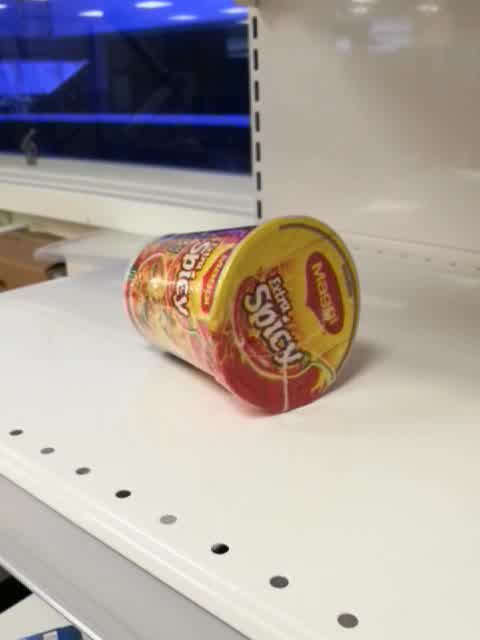maggi: (122, 214, 361, 416)
